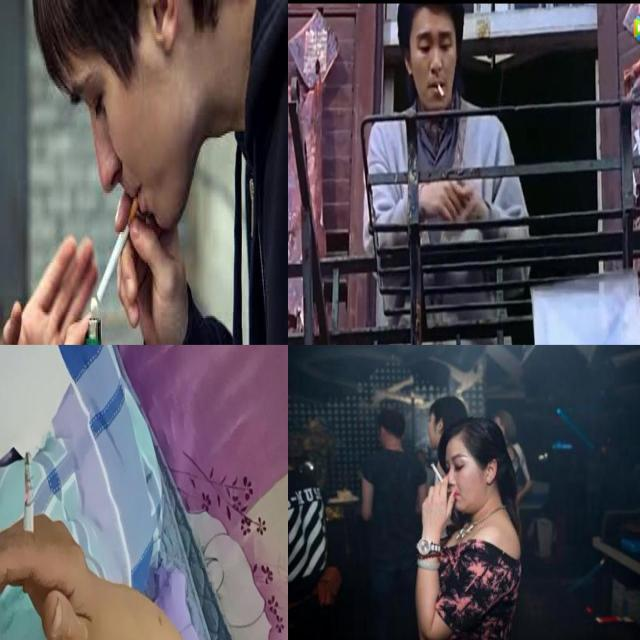smoking: (96, 196, 138, 303), (23, 451, 34, 594), (430, 462, 444, 484), (435, 76, 445, 98)
